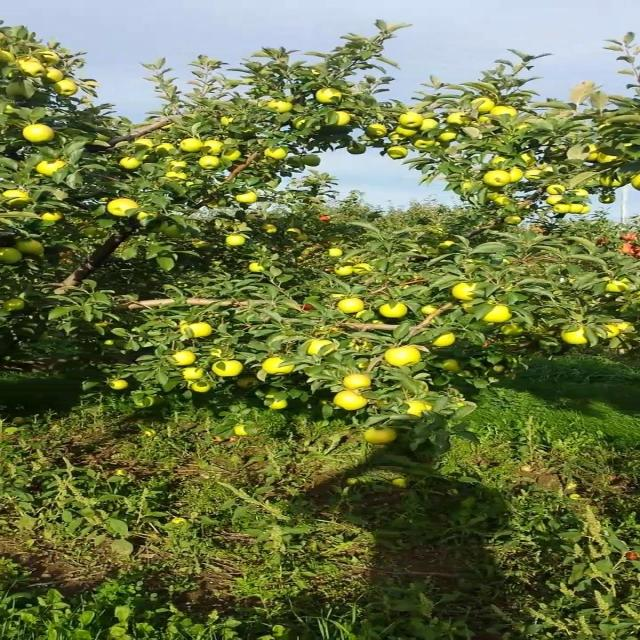apple: (333, 392, 370, 411), (390, 348, 420, 368), (262, 360, 297, 375), (404, 400, 434, 417), (212, 360, 242, 376), (369, 428, 398, 444), (28, 128, 57, 144), (305, 340, 334, 356), (483, 308, 512, 324), (561, 328, 590, 344), (170, 352, 199, 367), (113, 200, 140, 216), (6, 192, 32, 208), (483, 172, 510, 187), (454, 284, 478, 300), (20, 240, 44, 256), (42, 160, 66, 176), (186, 324, 213, 338), (20, 60, 43, 76), (383, 304, 407, 319), (319, 88, 341, 104), (6, 84, 28, 99), (348, 376, 370, 390), (198, 156, 220, 170), (191, 324, 213, 338), (447, 112, 469, 126), (369, 124, 389, 139), (340, 300, 363, 313), (397, 116, 421, 128), (333, 112, 352, 127), (134, 212, 162, 222), (269, 100, 292, 112), (184, 368, 206, 380), (433, 336, 455, 348), (6, 300, 28, 312), (476, 100, 498, 112), (419, 120, 441, 132), (56, 84, 78, 96), (504, 324, 526, 336), (611, 280, 633, 292), (604, 176, 626, 188), (163, 224, 183, 237), (269, 148, 290, 160), (412, 140, 439, 149), (6, 248, 21, 264), (348, 144, 368, 156), (156, 144, 176, 156), (511, 168, 526, 184), (205, 140, 222, 154), (490, 108, 519, 116), (390, 148, 409, 160), (440, 132, 459, 144), (525, 168, 544, 180), (589, 144, 603, 160), (120, 160, 142, 170), (227, 236, 247, 247), (163, 172, 187, 181), (42, 52, 60, 64), (596, 156, 622, 164), (397, 128, 420, 137), (184, 140, 201, 152), (170, 160, 190, 170), (355, 340, 375, 350), (42, 212, 64, 221), (355, 264, 373, 275), (269, 400, 290, 409), (241, 192, 256, 204), (447, 360, 462, 372), (305, 156, 320, 168), (191, 384, 213, 392), (547, 188, 569, 196), (490, 196, 512, 204), (291, 120, 308, 130), (554, 204, 571, 214), (134, 140, 155, 148), (134, 400, 155, 408), (49, 72, 64, 83), (113, 380, 128, 391), (604, 328, 619, 339), (518, 156, 535, 165), (440, 240, 457, 249), (220, 116, 235, 126), (497, 196, 512, 206), (575, 204, 588, 215), (248, 264, 265, 272), (241, 380, 258, 388), (504, 216, 521, 224), (618, 324, 635, 332), (262, 392, 279, 400), (490, 156, 507, 164), (227, 152, 242, 161), (547, 196, 562, 205), (461, 304, 476, 313), (340, 268, 356, 276), (589, 152, 603, 161), (234, 428, 249, 436), (326, 248, 341, 256), (476, 116, 491, 124), (390, 136, 405, 144), (604, 196, 617, 204), (426, 308, 439, 315), (632, 176, 639, 188), (6, 52, 14, 62), (575, 192, 590, 197), (461, 184, 473, 190), (106, 340, 116, 347), (156, 396, 164, 404), (99, 324, 108, 329), (298, 236, 308, 240), (269, 228, 277, 232), (291, 228, 299, 232), (250, 216, 256, 219)
